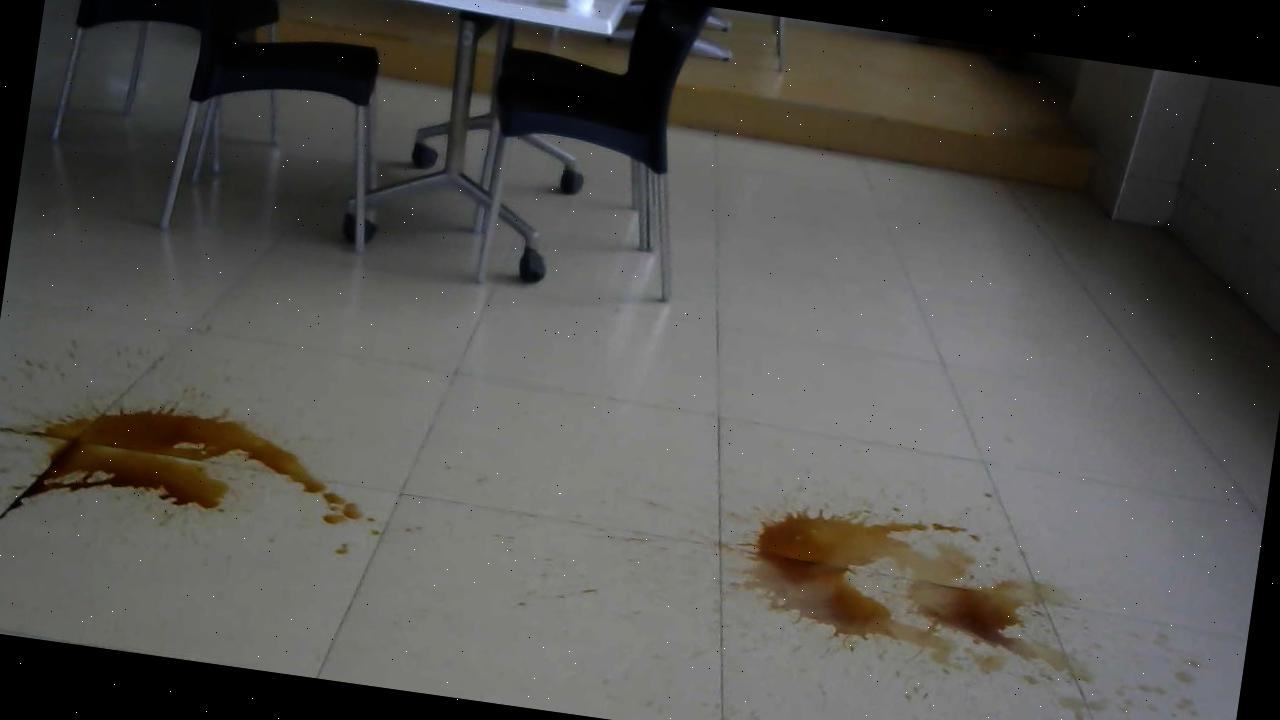dirty_floor: (0, 341, 417, 587), (731, 470, 1126, 693)
